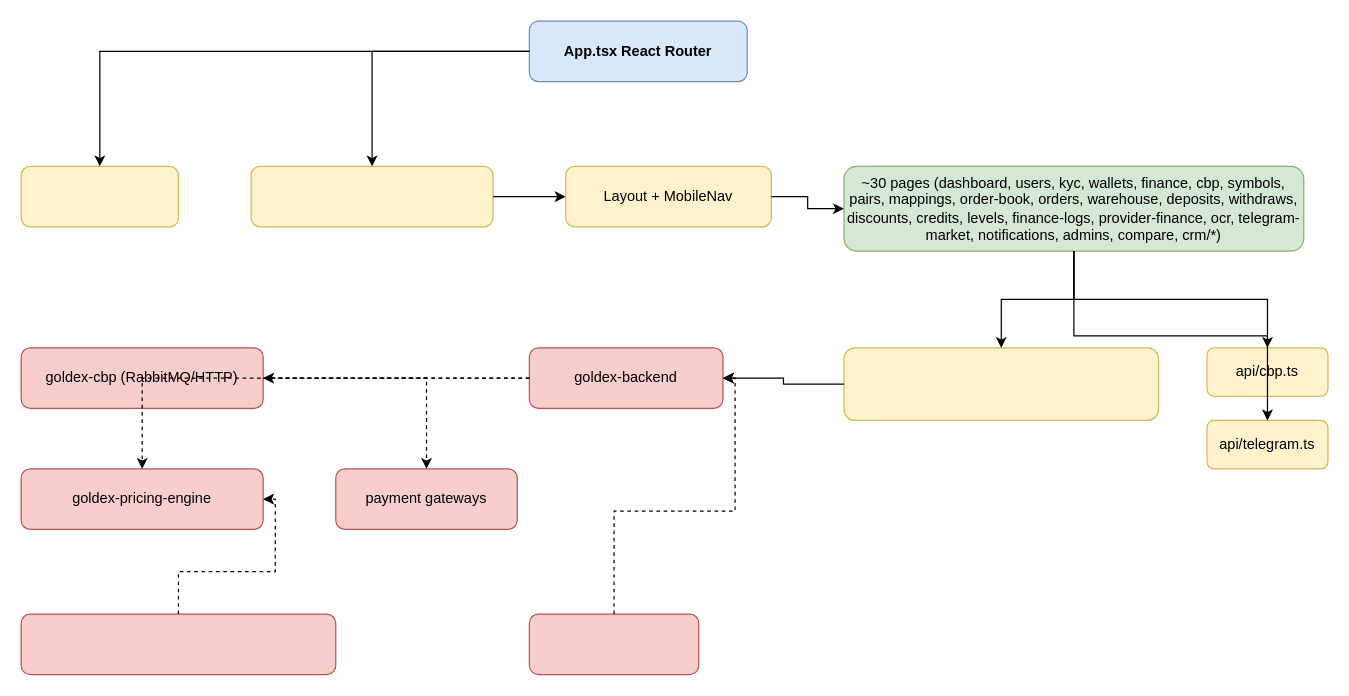
This 1349x696 diagram has some shape labels left out. The box of each missing label's shape, as (x1, y1, x2, y2) in pixels:
api/client.ts axios /api/v1 token + Accept-Language fa 401 interceptor: (843, 347, 1159, 420)
LoginPage: (20, 165, 178, 227)
OCR service: (528, 613, 699, 675)
RequireAuth checkSession: (250, 165, 493, 227)
telegram_monitoring / pricing-engine market: (20, 613, 336, 675)
